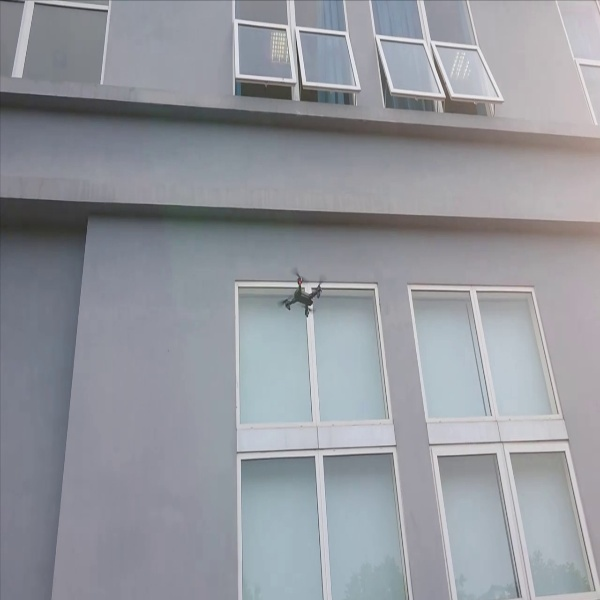drone: (275, 267, 329, 320)
